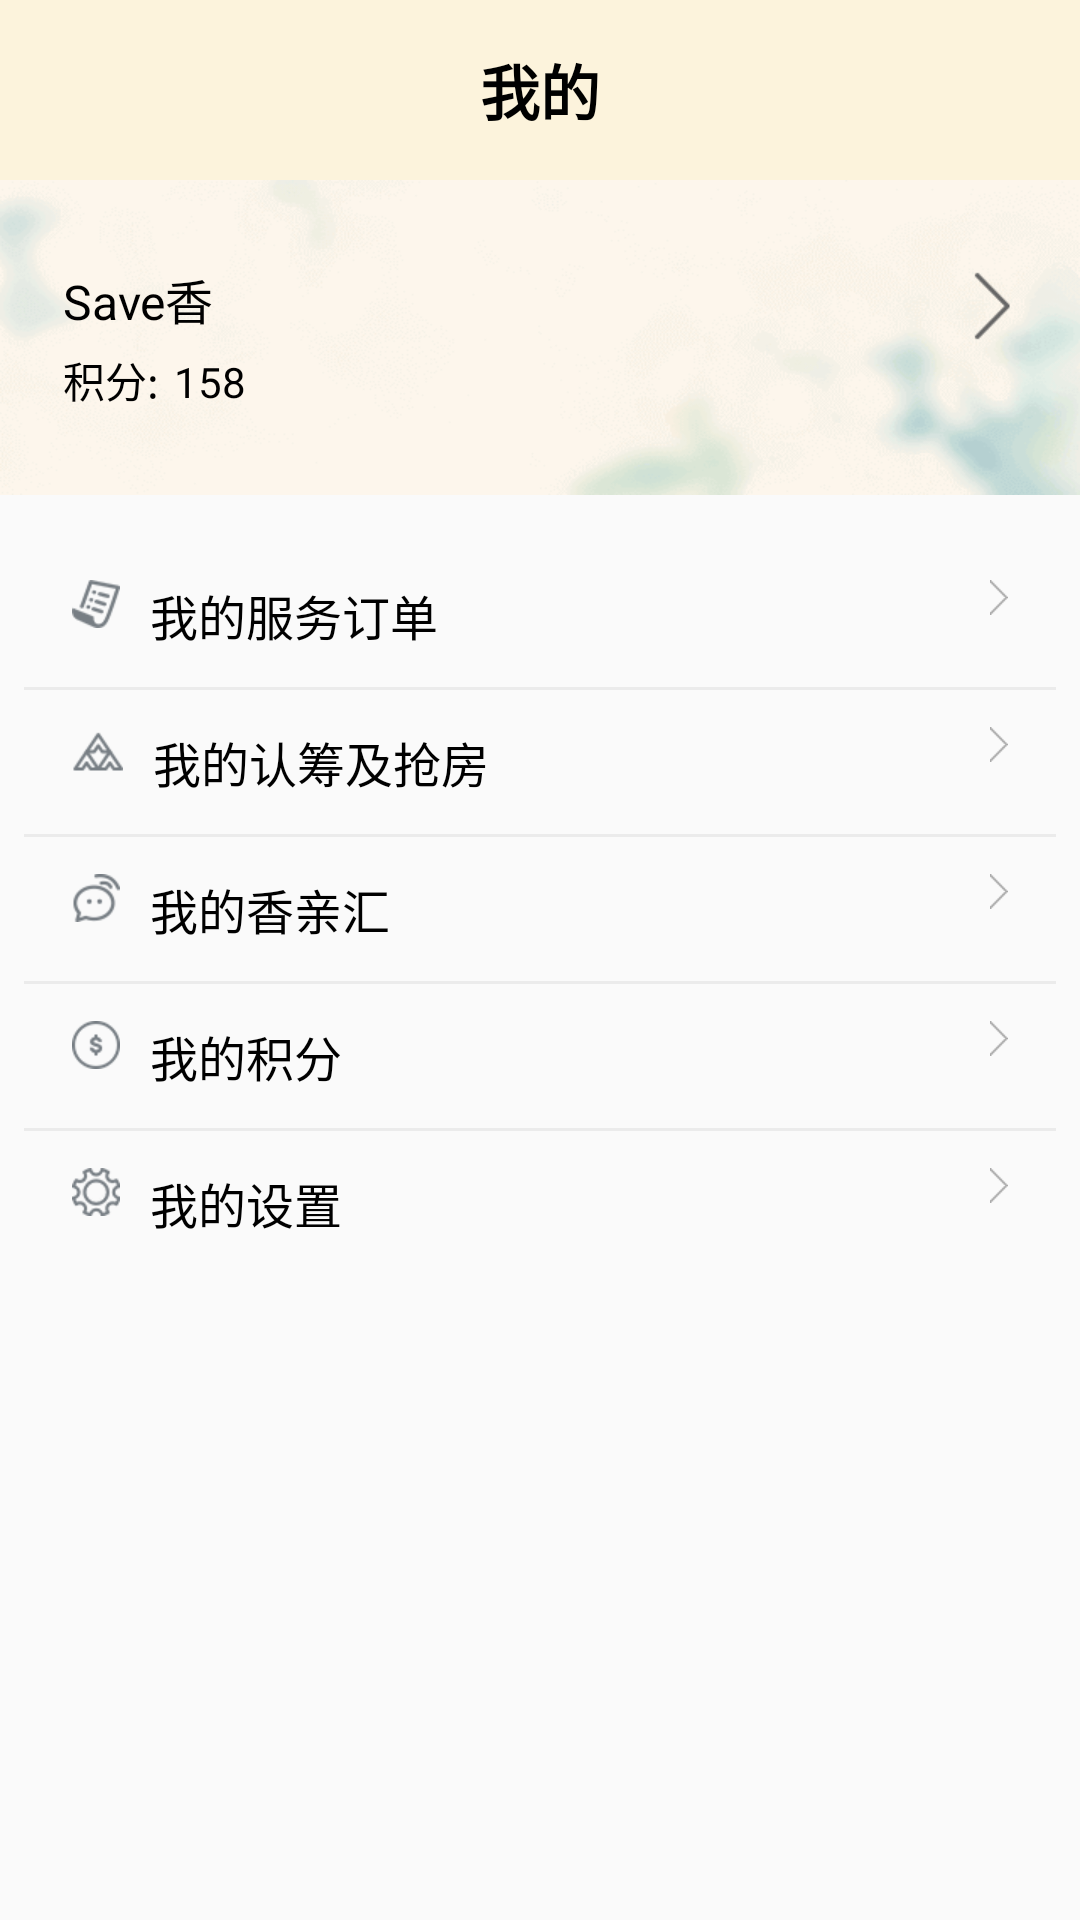

Icons on this 1080×1920 Android screen, each with its box as {"left": x1, "top": y1, "right": x2, "bottom": y2}:
jifen: {"left": 72, "top": 1021, "right": 120, "bottom": 1069}
setting: {"left": 72, "top": 1168, "right": 120, "bottom": 1216}
